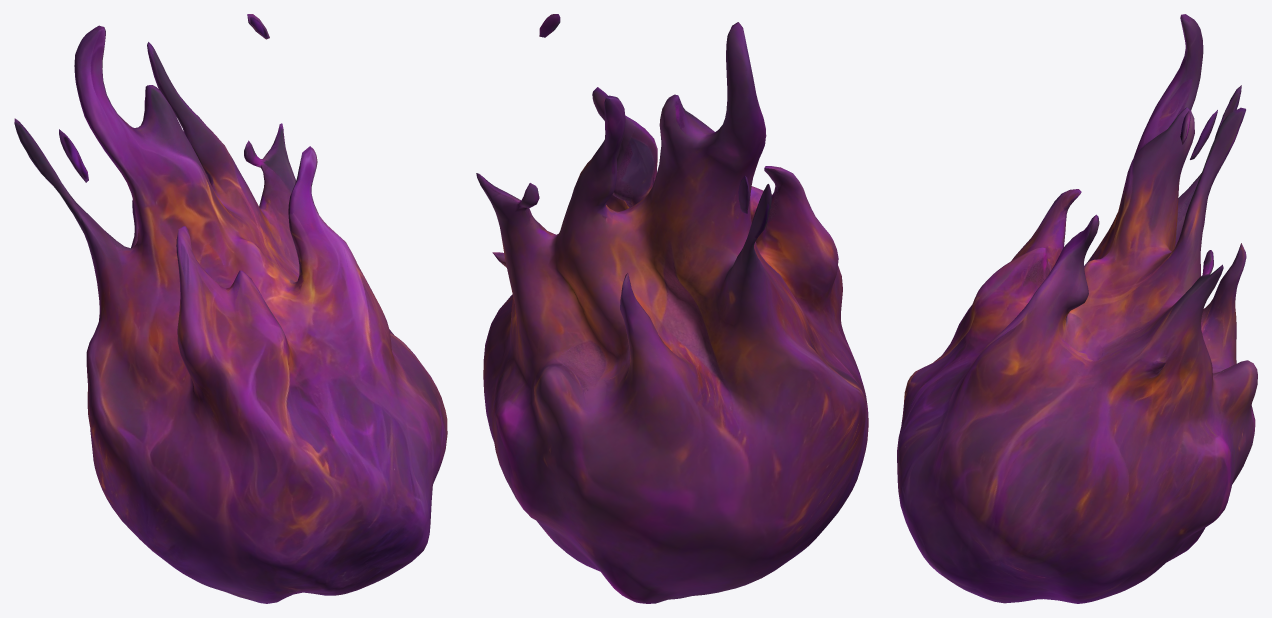
Rendered from proj_physical.glb.
3 views of the same model, side by side, from view 1: azimuth 30°, elevation 25°; view 2: azimuth 150°, elevation 25°; view 3: azimuth 270°, elevation 25° (orthographic). The views are drawn at different scales.
Parts seen in each view (by area): view 1: Physical attack; view 2: Physical attack; view 3: Physical attack.
Part boxes in pixels (left/top/right/bottom): Physical attack: left=14, top=14, right=447, bottom=603; Physical attack: left=476, top=14, right=868, bottom=603; Physical attack: left=897, top=14, right=1257, bottom=603.
Size of the model in its own units: 1.2 by 1.99 by 1.25.
1 material, 1 textured.
